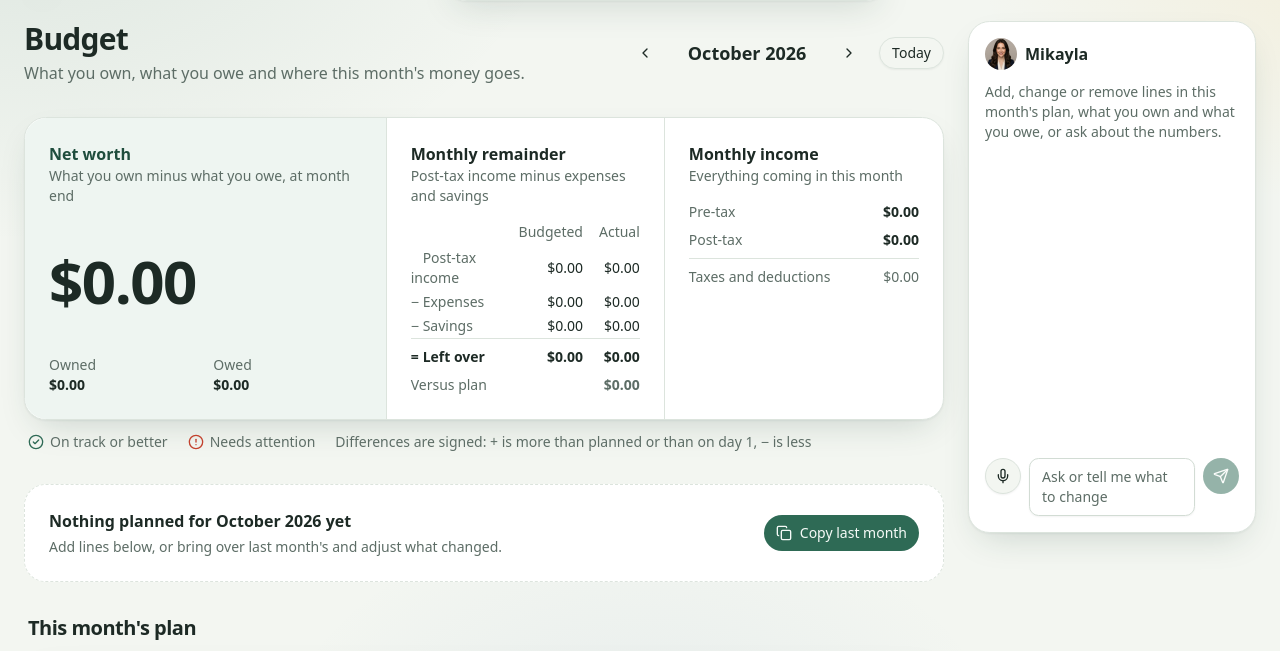
BudgetPage › offers to copy last month into an empty month
Click the button "Copy last month": (841, 533) [764,515,919,551]
(page scrolled)
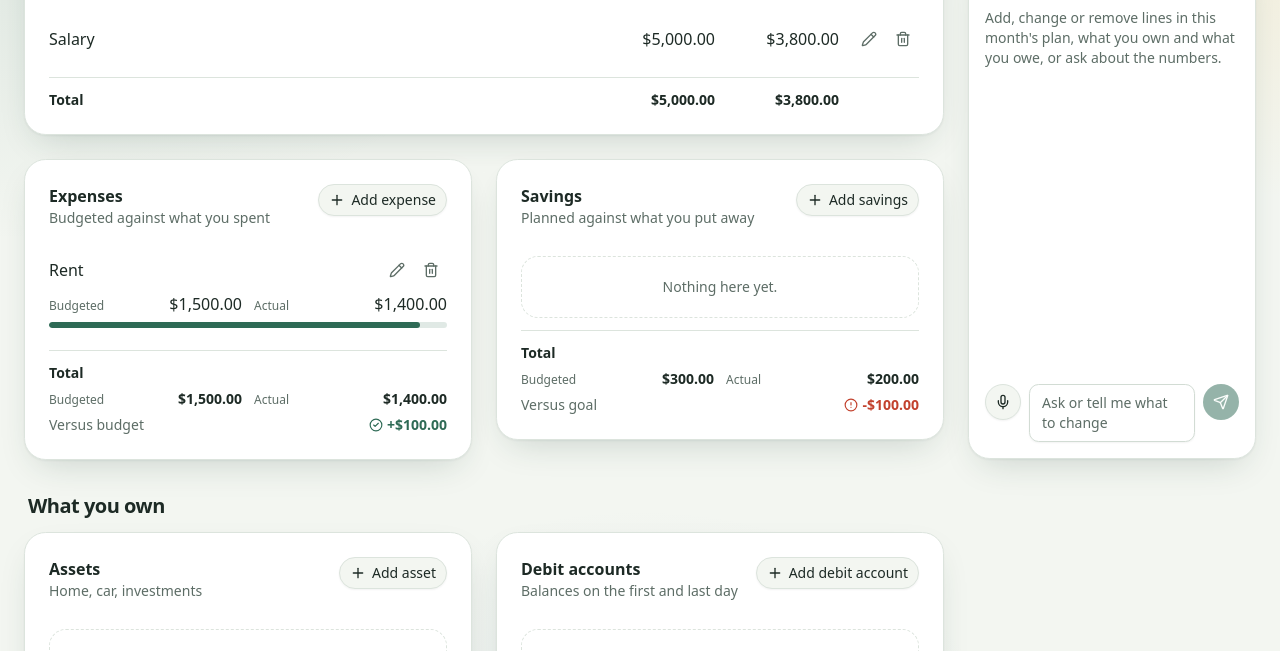
Expected: the list item "Rent" is shown, [49,244,447,338]
